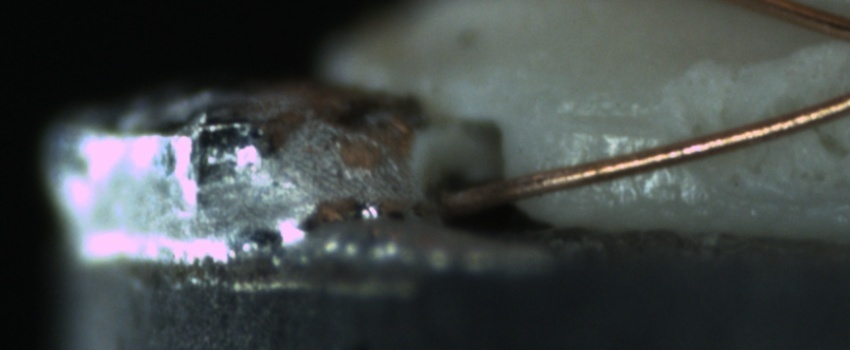DL: (548, 93, 668, 156)
